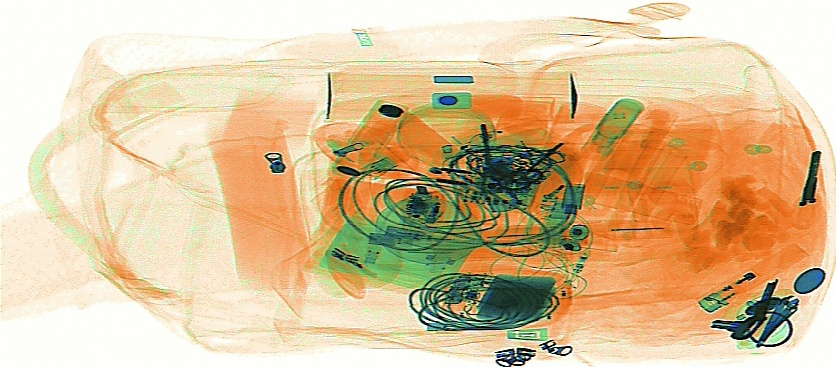lighter: (696, 241, 807, 313)
